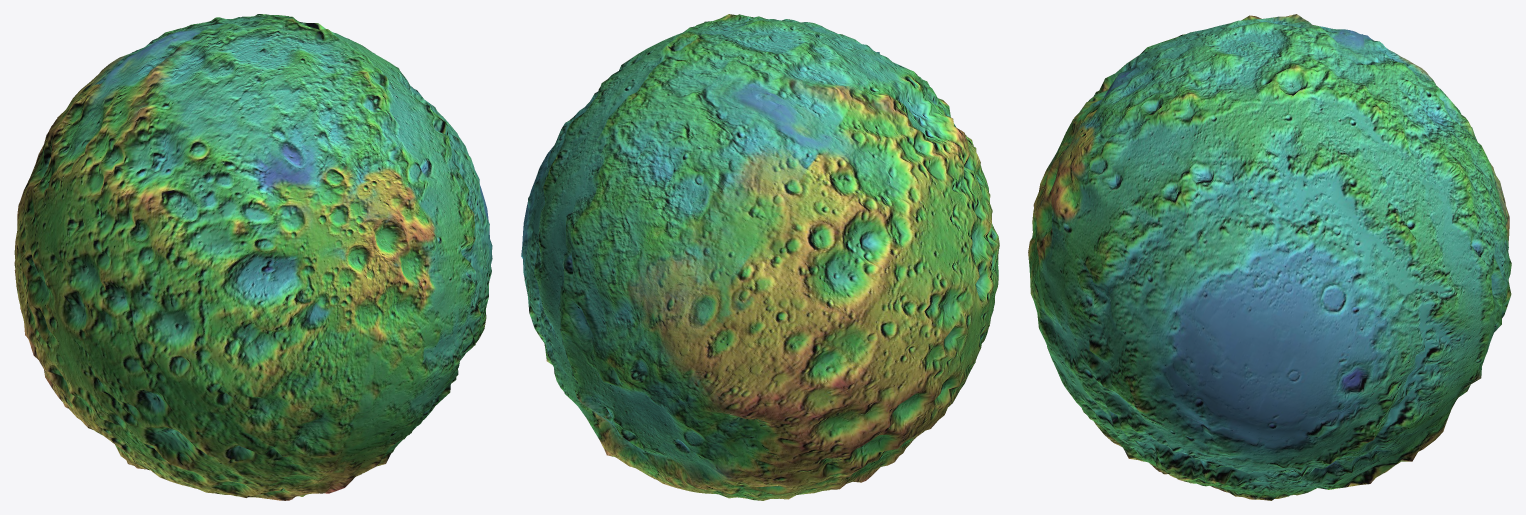
The model's file is lunaluna.glb.
The picture shows the model from 3 angles, left to right: view 1: azimuth 30°, elevation 25°; view 2: azimuth 150°, elevation 25°; view 3: azimuth 270°, elevation 25°; orthographic projection.
Visible parts, largest first — view 1: videotarget; view 2: videotarget; view 3: videotarget.
Boxes of the visible parts, x1,y1,x2,y2 form: videotarget: (14,14,492,500); videotarget: (521,14,999,500); videotarget: (1028,14,1511,500).
Bounding box in the file's own units: 25.08 × 25.31 × 25.13.
1 material, 1 textured.
